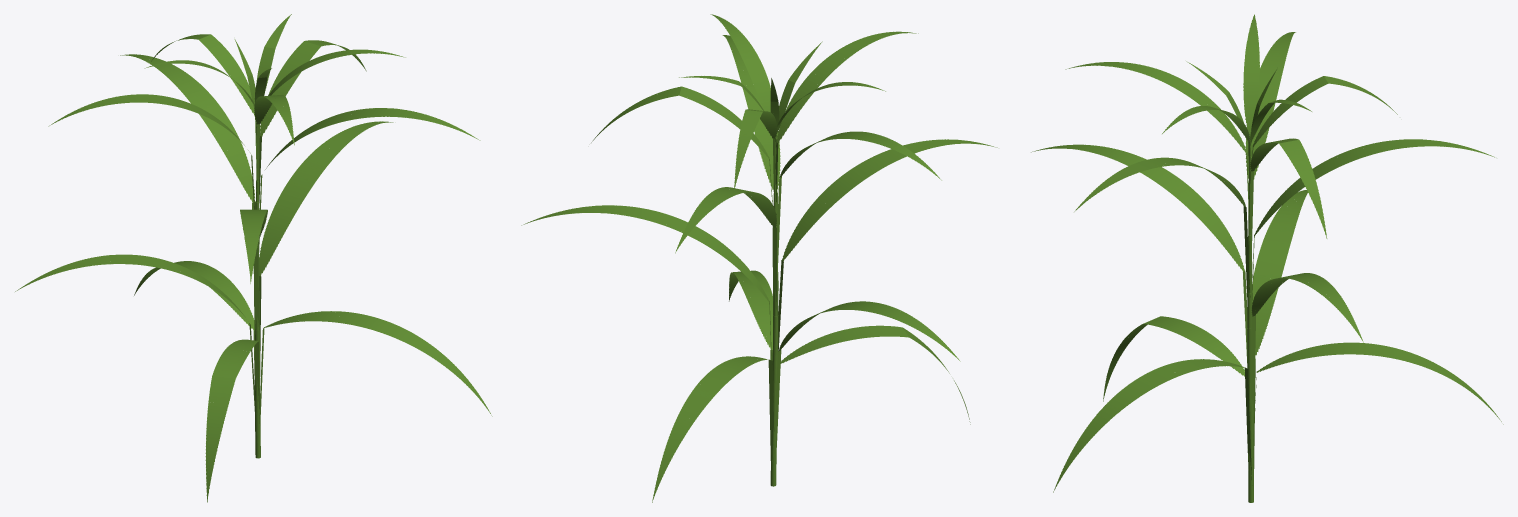
The model's file is maize_002_day_100.dae.
3 renders of one model, left to right at view 1: azimuth 30°, elevation 25°; view 2: azimuth 150°, elevation 25°; view 3: azimuth 270°, elevation 25°, orthographic. The views are drawn at different scales.
Visible parts, largest first — view 1: node; view 2: node; view 3: node.
Boxes of the visible parts, bbox=[...] form: node: bbox=[15, 14, 492, 502]; node: bbox=[521, 14, 997, 502]; node: bbox=[1031, 14, 1503, 502].
Size of the model in its own units: 1.7 by 1.66 by 1.66.
Materials: 1 (1 with a texture image).
